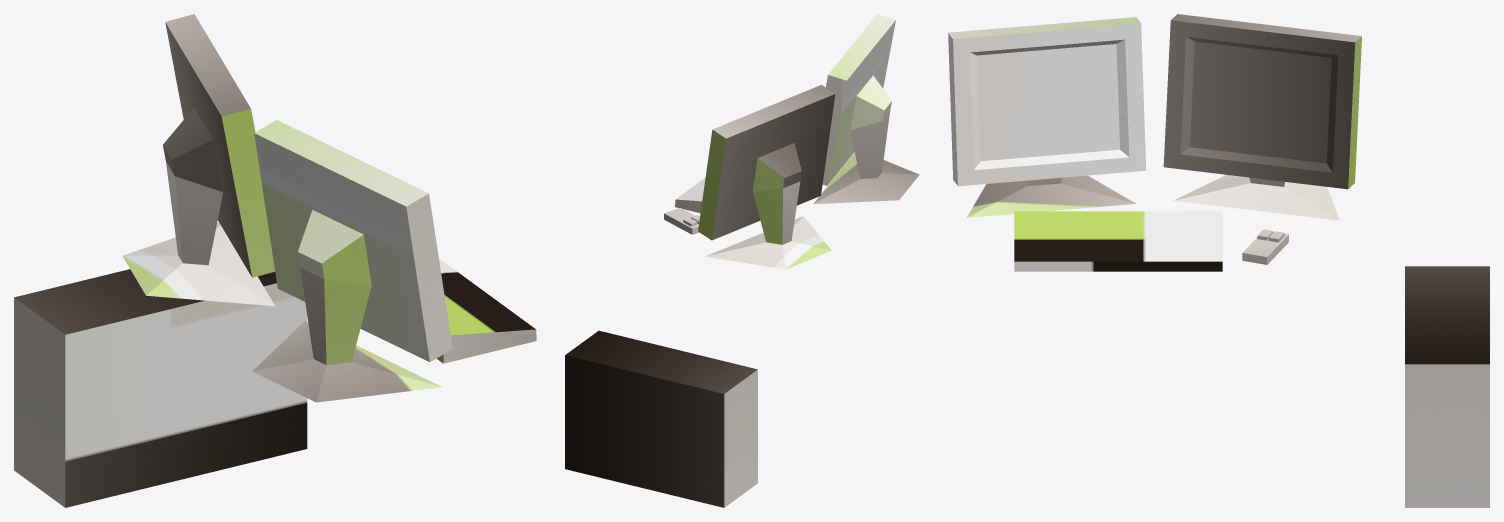
Rendered from ComputerBurned.fbx.
3 views of the same model, side by side, from view 1: azimuth 30°, elevation 25°; view 2: azimuth 150°, elevation 25°; view 3: azimuth 270°, elevation 25° (orthographic). The views are drawn at different scales.
Visible parts, largest first — view 1: ComputerBurned; view 2: ComputerBurned; view 3: ComputerBurned.
Boxes of the visible parts, box(x1,y1,x2,y2) form: ComputerBurned: box(14, 14, 536, 507); ComputerBurned: box(565, 14, 919, 507); ComputerBurned: box(948, 14, 1489, 507).
Bounding box in the file's own units: 7.13 × 12.99 × 15.64.
Materials: 1 (1 with a texture image).
